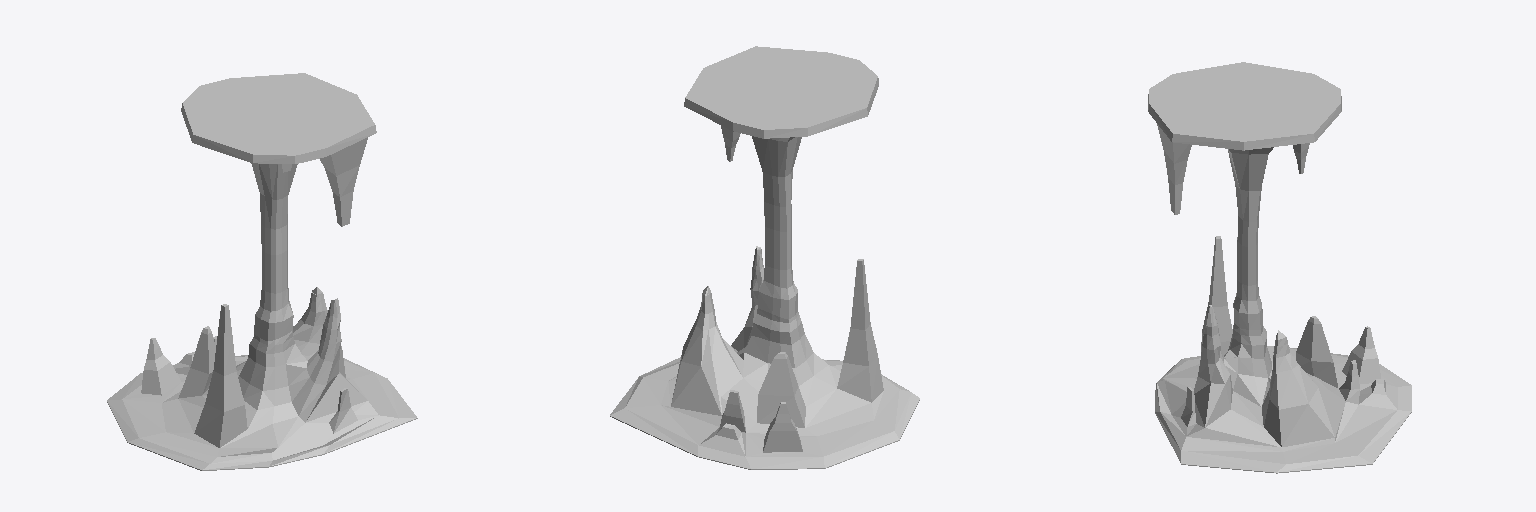
The model's file is stalagmiteandstalactite.obj.
The picture shows the model from 3 angles: view 1: azimuth 30°, elevation 25°; view 2: azimuth 150°, elevation 25°; view 3: azimuth 270°, elevation 25°; orthographic projection.
Parts seen in each view (by area): view 1: pCube1; view 2: pCube1; view 3: pCube1.
Boxes of the visible parts, <box> form: pCube1: <box>107,73,417,470</box>; pCube1: <box>610,46,919,469</box>; pCube1: <box>1148,62,1411,473</box>.
Bounding box in the file's own units: 2.75 × 3.12 × 2.41.